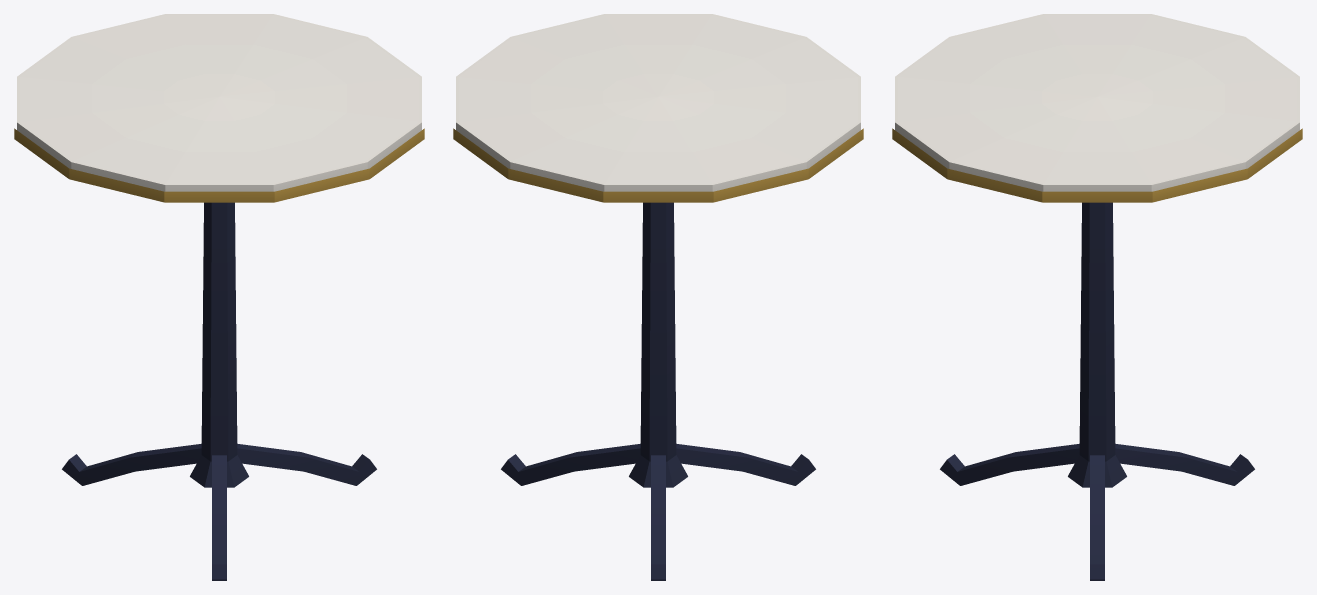
File: cafe_table.glb
3 views of the same model, side by side, from view 1: azimuth 30°, elevation 25°; view 2: azimuth 150°, elevation 25°; view 3: azimuth 270°, elevation 25° (orthographic).
Visible parts, largest first — view 1: cafe_table.001; view 2: cafe_table.001; view 3: cafe_table.001.
Boxes of the visible parts, x1,y1,x2,y2 form: cafe_table.001: [14, 14, 424, 580]; cafe_table.001: [453, 14, 863, 580]; cafe_table.001: [892, 14, 1302, 580].
Bounding box in the file's own units: 0.6858 × 0.7724 × 0.6858.
1 material, 1 textured.
